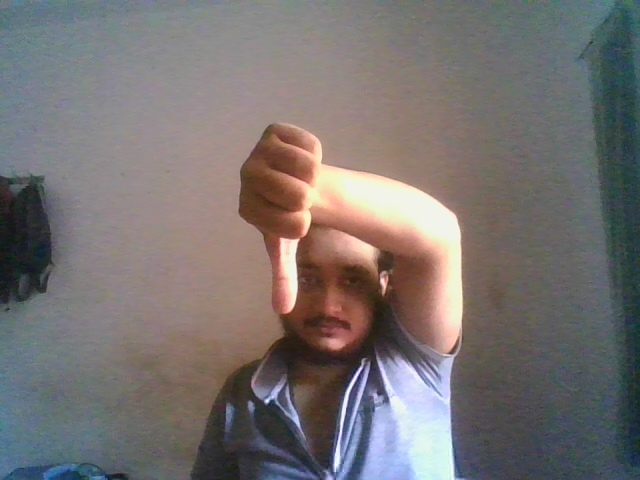ThumbsDown: (239, 120, 324, 314)
